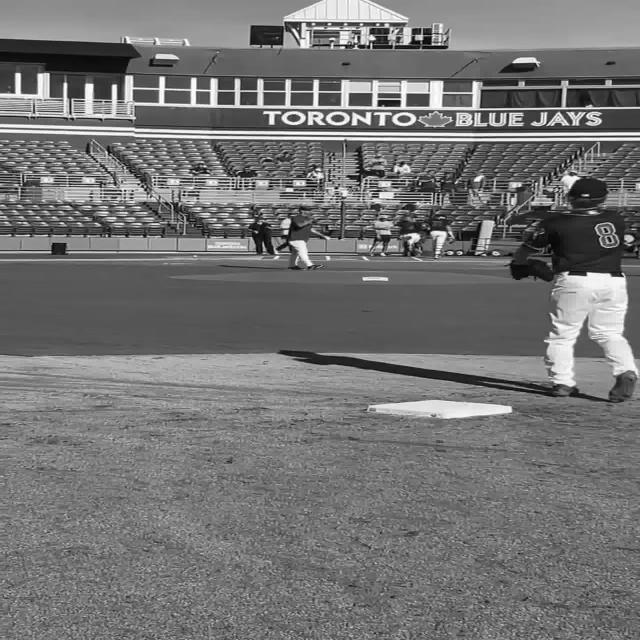base: (369, 399, 516, 416)
baseball_glove: (505, 258, 555, 282)
shoe: (608, 371, 636, 402), (550, 384, 576, 396), (305, 264, 323, 270), (288, 266, 300, 270)
